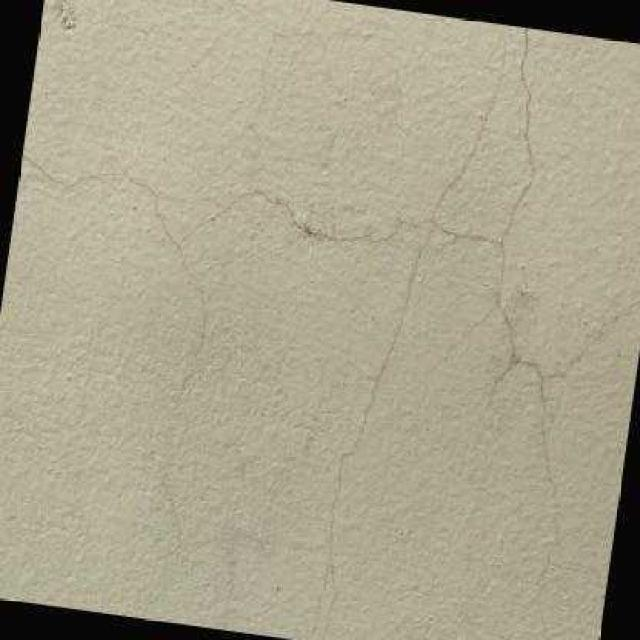D00: (21, 30, 640, 636)
